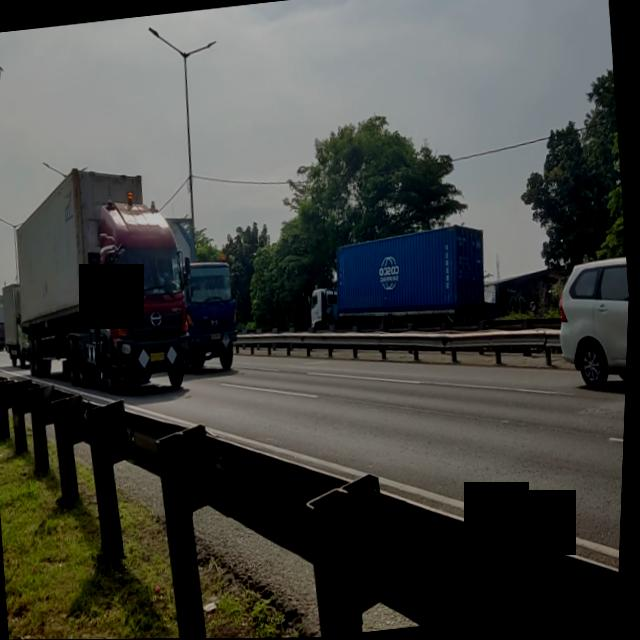Golongan V: (9, 190, 200, 405)
